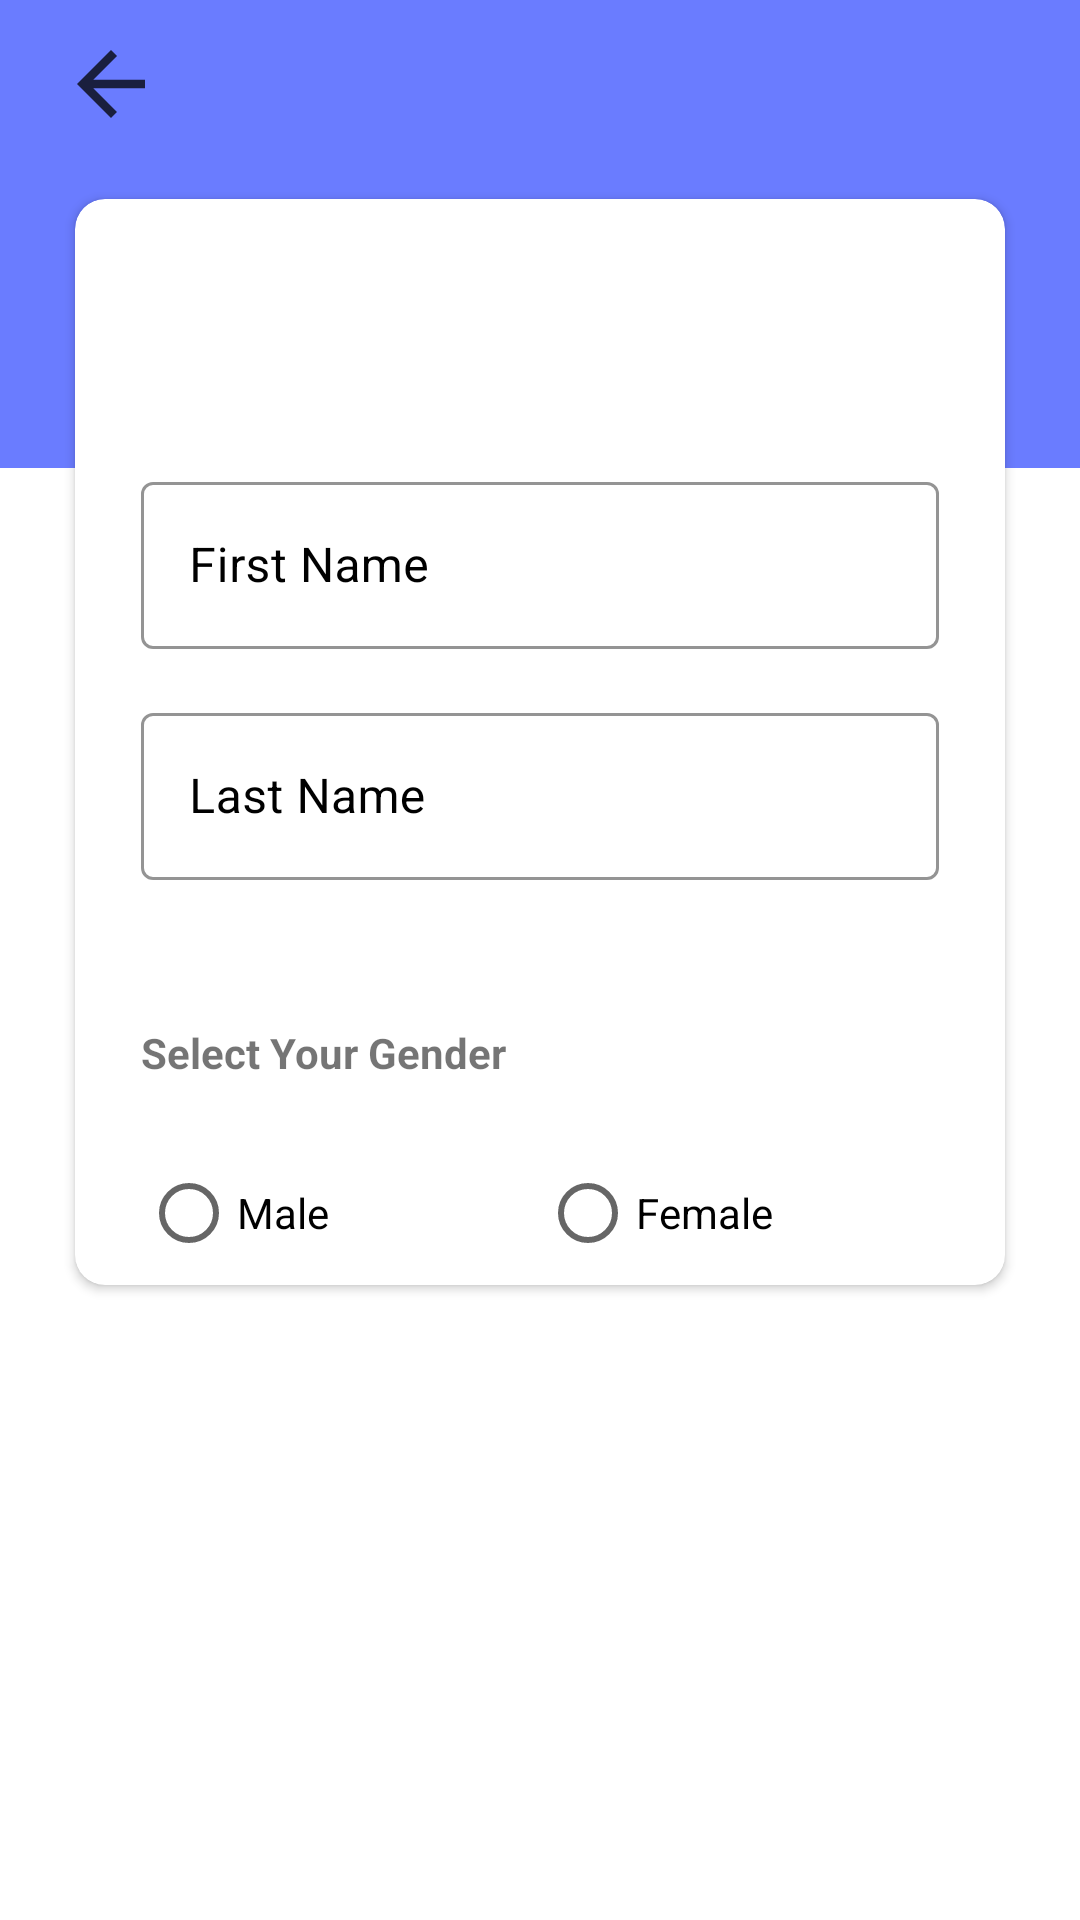

Where to tap for icons on this 1080px x 1920px app screen, as (x=x, y=y):
arrow back: (x=111, y=84)
